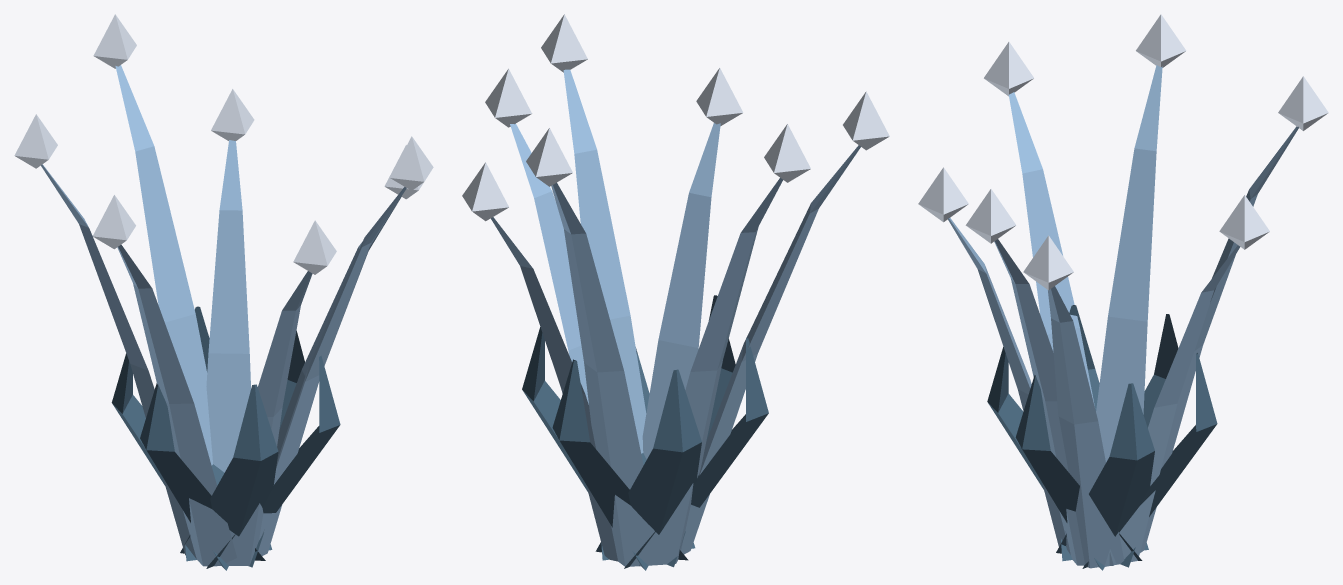
File: mist_herb.glb
3 views of the same model, side by side, from view 1: azimuth 30°, elevation 25°; view 2: azimuth 150°, elevation 25°; view 3: azimuth 270°, elevation 25° (orthographic). The views are drawn at different scales.
Visible parts, largest first — view 1: MistHerb; view 2: MistHerb; view 3: MistHerb.
Boxes of the visible parts, x1,y1,x2,y2 form: MistHerb: (14, 14, 433, 570); MistHerb: (462, 14, 889, 570); MistHerb: (918, 14, 1328, 570).
Size of the model in its own units: 0.5887 by 0.734 by 0.5813.
